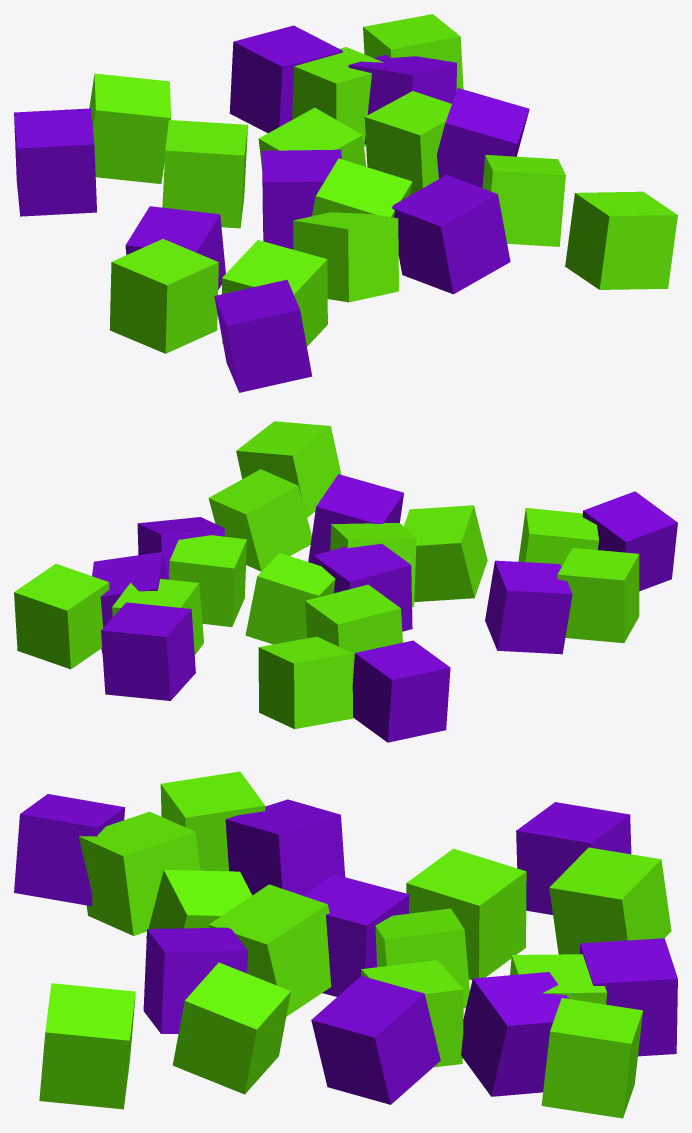
File: SmartVegetables_Cutted.fbx
3 views of the same model, one above another, from view 1: azimuth 30°, elevation 25°; view 2: azimuth 150°, elevation 25°; view 3: azimuth 270°, elevation 25° (orthographic). The views are drawn at different scales.
Parts seen in each view (by area): view 1: SmartVegetables_Cutted; view 2: SmartVegetables_Cutted; view 3: SmartVegetables_Cutted.
Part boxes in pixels (x1=…): SmartVegetables_Cutted: x1=14, y1=14, x2=677, y2=392; SmartVegetables_Cutted: x1=14, y1=421, x2=677, y2=742; SmartVegetables_Cutted: x1=14, y1=771, x2=677, y2=1118.
Bounding box in the file's own units: 30.3 × 31.72 × 5.26.
